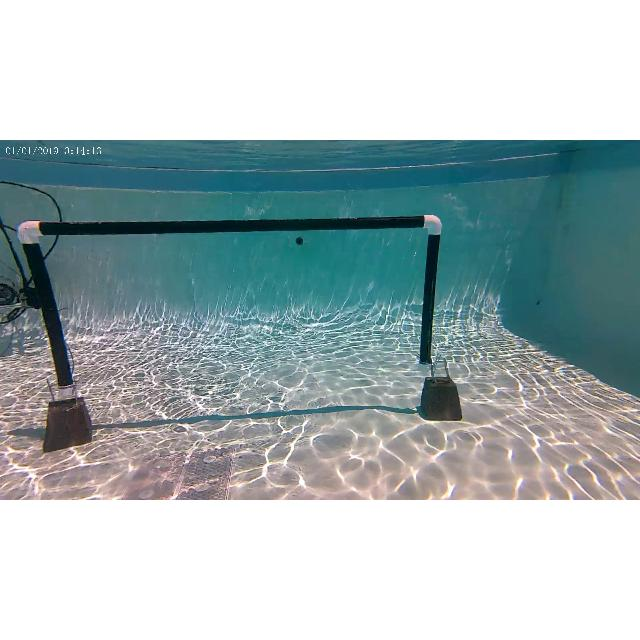prequal gate: (16, 215, 442, 397)
prequal gate leg l: (13, 219, 93, 456)
prequal gate leg r: (414, 212, 466, 426)
